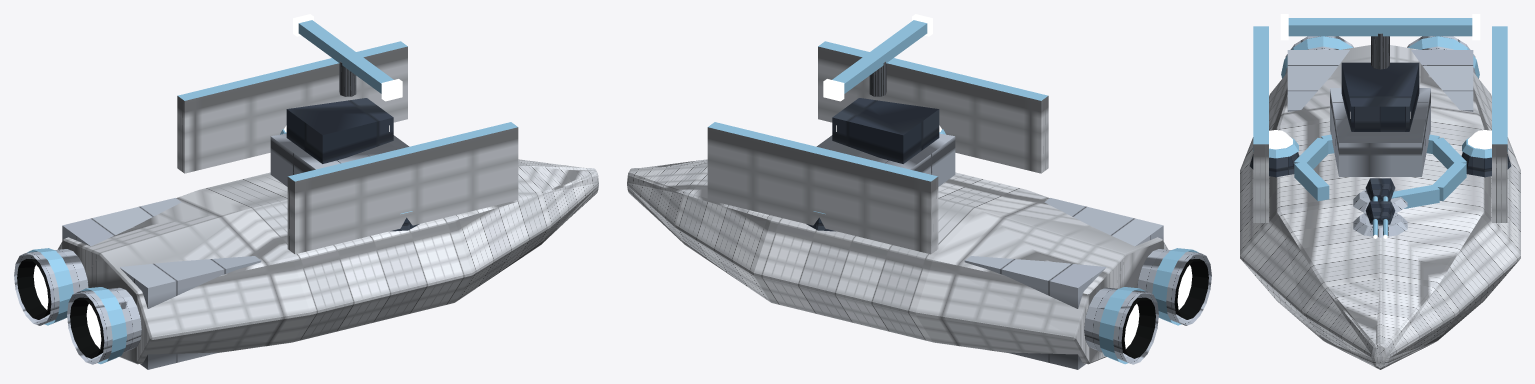
The model's file is command_ship.glb.
3 views of the same model, side by side, from view 1: azimuth 30°, elevation 25°; view 2: azimuth 150°, elevation 25°; view 3: azimuth 270°, elevation 25° (orthographic). The views are drawn at different scales.
Visible parts, largest first — view 1: hull_body, engine_block, sensor_tower; view 2: hull_body, engine_block, sensor_tower; view 3: hull_body, sensor_tower, engine_block, shield_domes, weapon_turrets.
Boxes of the visible parts, bbox=[...] form: hull_body: bbox=[58, 41, 598, 364]; engine_block: bbox=[14, 198, 261, 369]; sensor_tower: bbox=[270, 14, 409, 186]; hull_body: bbox=[627, 41, 1167, 364]; engine_block: bbox=[964, 198, 1211, 369]; sensor_tower: bbox=[816, 14, 955, 186]; hull_body: bbox=[1240, 26, 1520, 369]; sensor_tower: bbox=[1280, 14, 1480, 208]; engine_block: bbox=[1281, 36, 1479, 111]; shield_domes: bbox=[1249, 130, 1511, 177]; weapon_turrets: bbox=[1353, 178, 1407, 238].
Size of the model in its own units: 56 by 24.71 by 23.44.
1 material, 1 textured.
